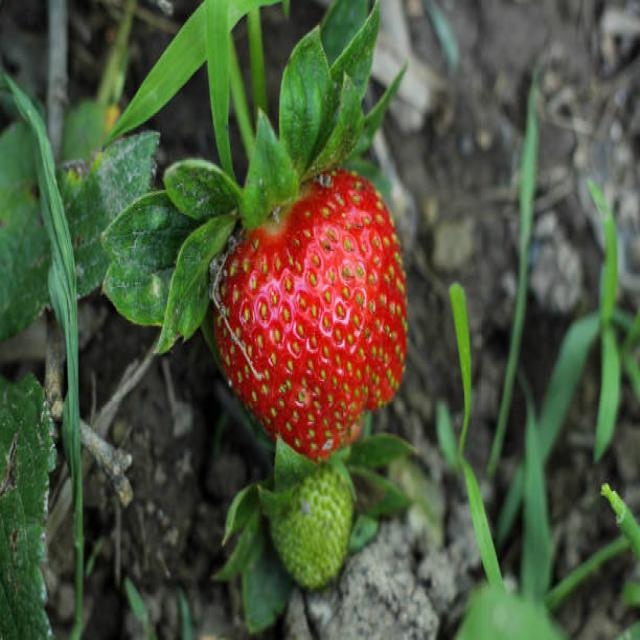Healthy Fruit: (209, 165, 408, 460)
